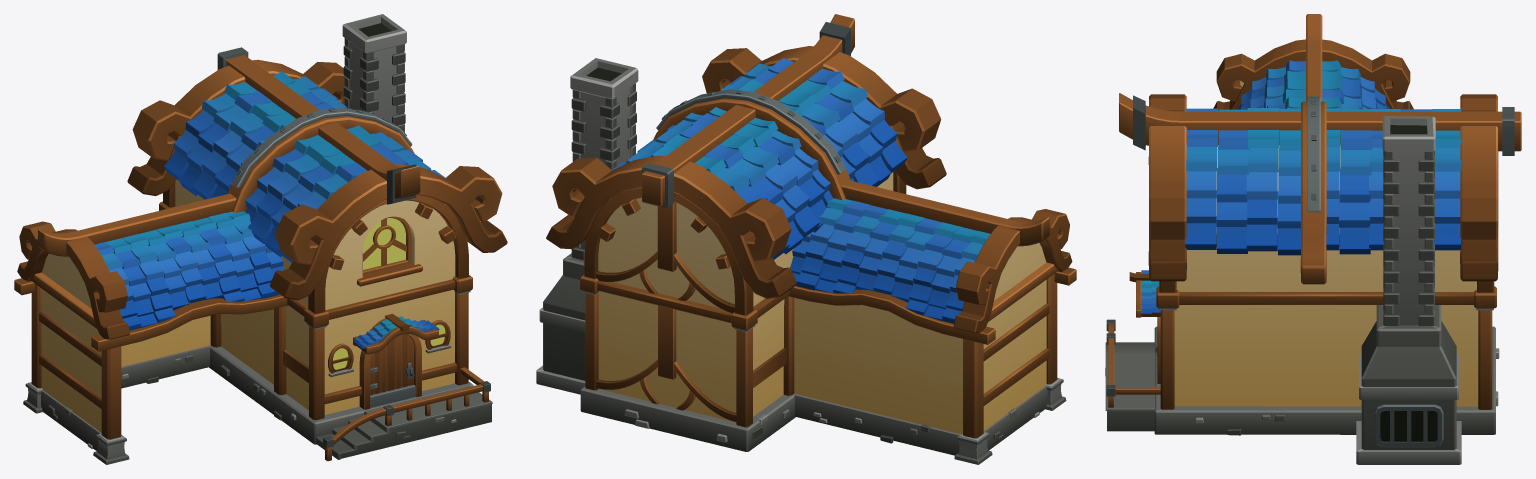
The model's file is Est-Medi-3.fbx.
3 views of the same model, side by side, from view 1: azimuth 30°, elevation 25°; view 2: azimuth 150°, elevation 25°; view 3: azimuth 270°, elevation 25° (orthographic). The views are drawn at different scales.
Visible parts, largest first — view 1: Est-Medi-3; view 2: Est-Medi-3; view 3: Est-Medi-3.
Boxes of the visible parts, bbox=[...] form: Est-Medi-3: bbox=[14, 14, 507, 464]; Est-Medi-3: bbox=[536, 14, 1076, 464]; Est-Medi-3: bbox=[1105, 14, 1521, 464].
Size of the model in its own units: 1655 by 1098 by 1302.
